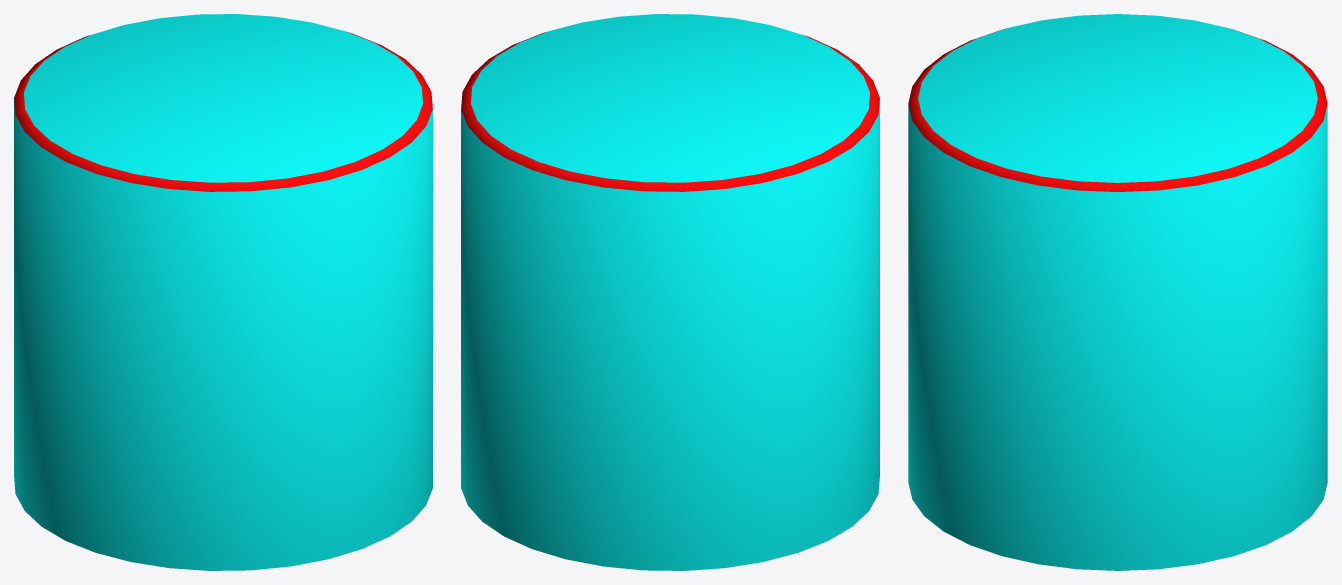
File: L15_CD_Center.fbx
3 renders of one model, left to right at view 1: azimuth 30°, elevation 25°; view 2: azimuth 150°, elevation 25°; view 3: azimuth 270°, elevation 25°, orthographic.
Visible parts, largest first — view 1: L15_CD_Center; view 2: L15_CD_Center; view 3: L15_CD_Center.
Part boxes in pixels (x1,y1,x2,y2): L15_CD_Center: (14, 14, 432, 570); L15_CD_Center: (461, 14, 879, 570); L15_CD_Center: (908, 14, 1327, 570).
Bounding box in the file's own units: 200 × 202 × 200.
